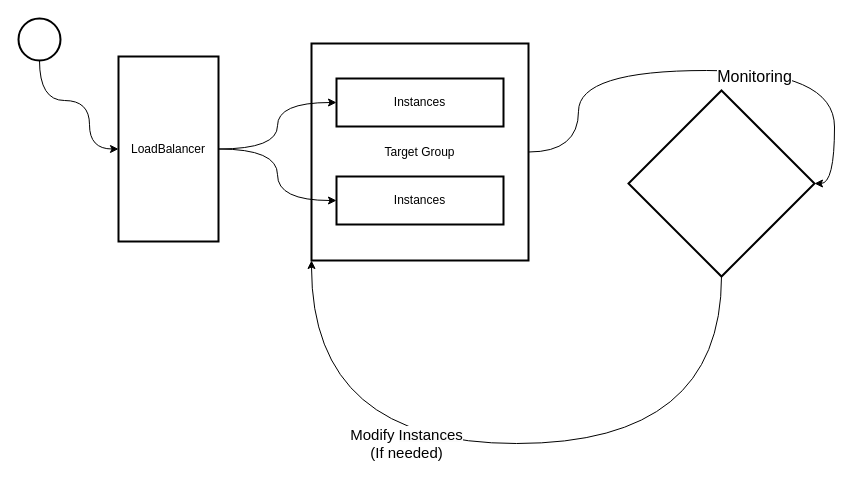
Image size: 852x478. Some labels were removed from this diagram. The shapes that lost their labels are listed below. From the top down, each one's centre as x and y in pixels, then its label:
the point at 39,39: User
the point at 721,183: Auto-Scaling Group
